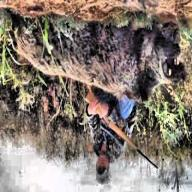boar: (9, 2, 186, 95)
